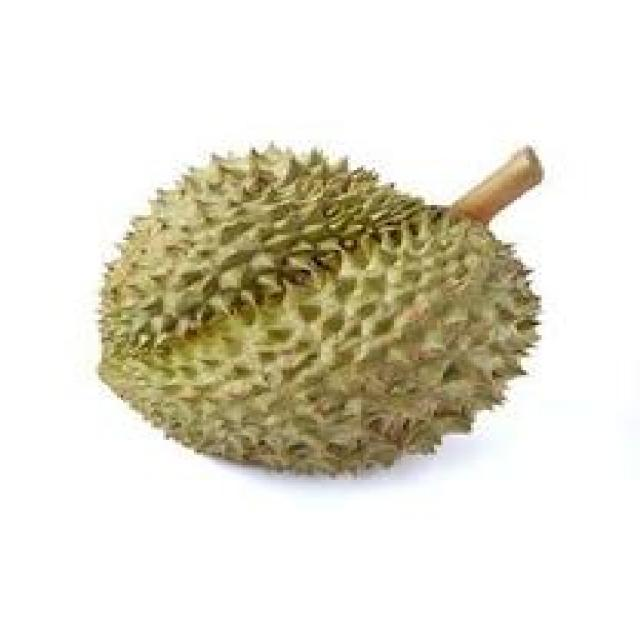fruit: (68, 135, 430, 527)
